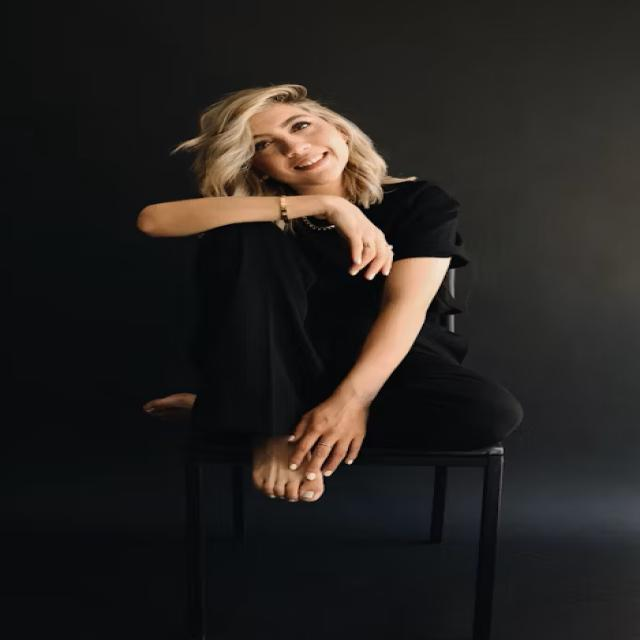Edited images: (144, 79, 556, 535)
